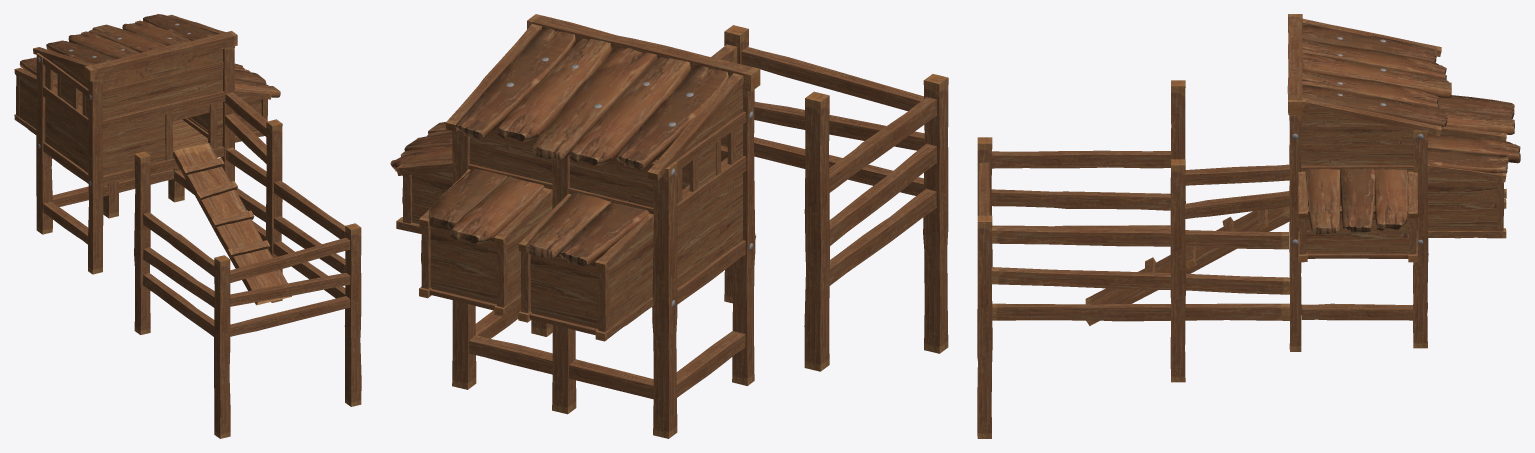
Rendered from SM_Farm_ChickenCoup.fbx.
3 views of the same model, side by side, from view 1: azimuth 30°, elevation 25°; view 2: azimuth 150°, elevation 25°; view 3: azimuth 270°, elevation 25° (orthographic). The views are drawn at different scales.
Visible parts, largest first — view 1: SM_Farm_ChickenCoup_LOD0; view 2: SM_Farm_ChickenCoup_LOD0; view 3: SM_Farm_ChickenCoup_LOD0.
Boxes of the visible parts, left/top/right/bottom form: SM_Farm_ChickenCoup_LOD0: left=14, top=14, right=361, bottom=438; SM_Farm_ChickenCoup_LOD0: left=390, top=14, right=948, bottom=438; SM_Farm_ChickenCoup_LOD0: left=977, top=14, right=1520, bottom=438.
Size of what is drawn, in the model's own units: 181 by 239 by 347.
